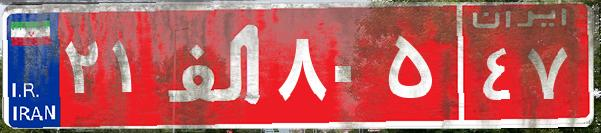0: (330, 28, 385, 110)
1: (110, 28, 158, 105)
2: (57, 26, 110, 107)
4: (475, 38, 525, 113)
5: (385, 28, 445, 110)
7: (525, 38, 570, 115)
8: (273, 28, 330, 110)
الف: (158, 15, 273, 115)
